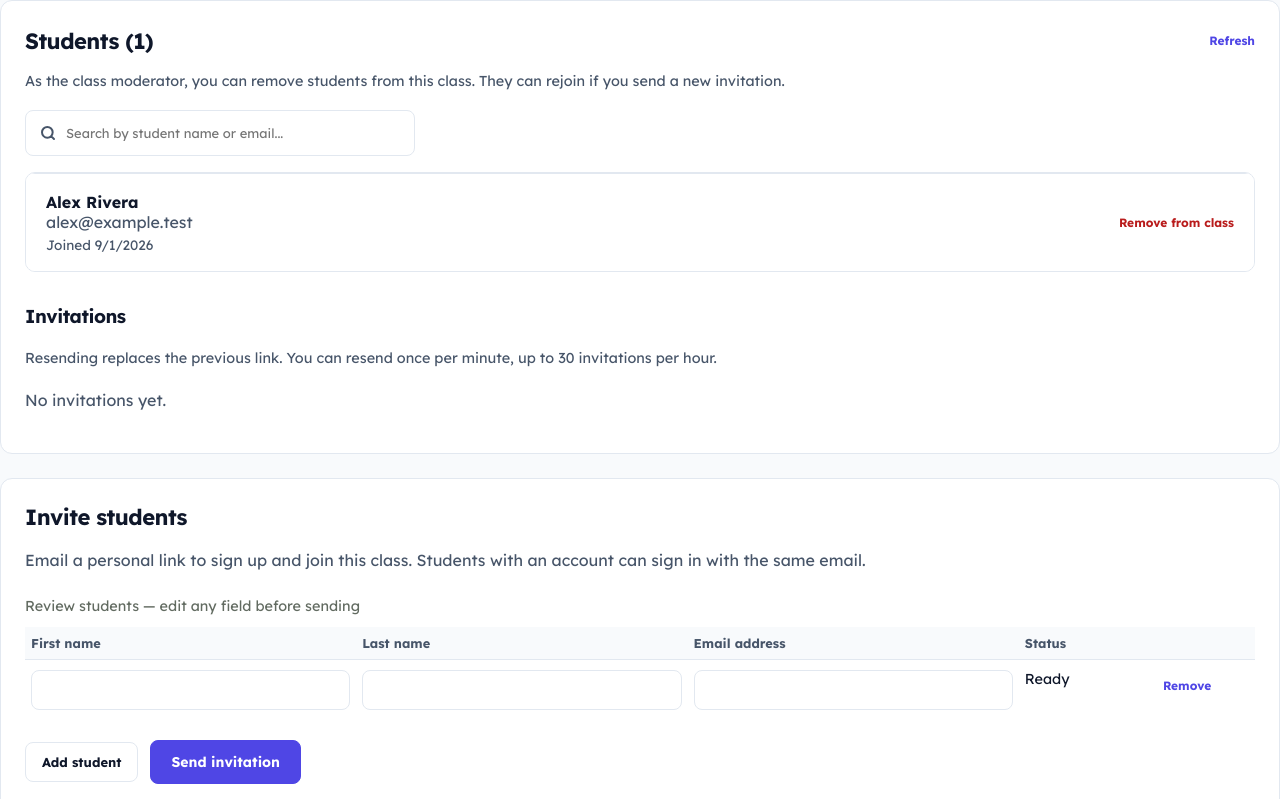
Test: requires confirmation, supports cancel, and removes only the selected class member
Click the button with aria-label "Remove alex@example.test from class". click: (1176, 223)
box: [1119,207,1234,238]
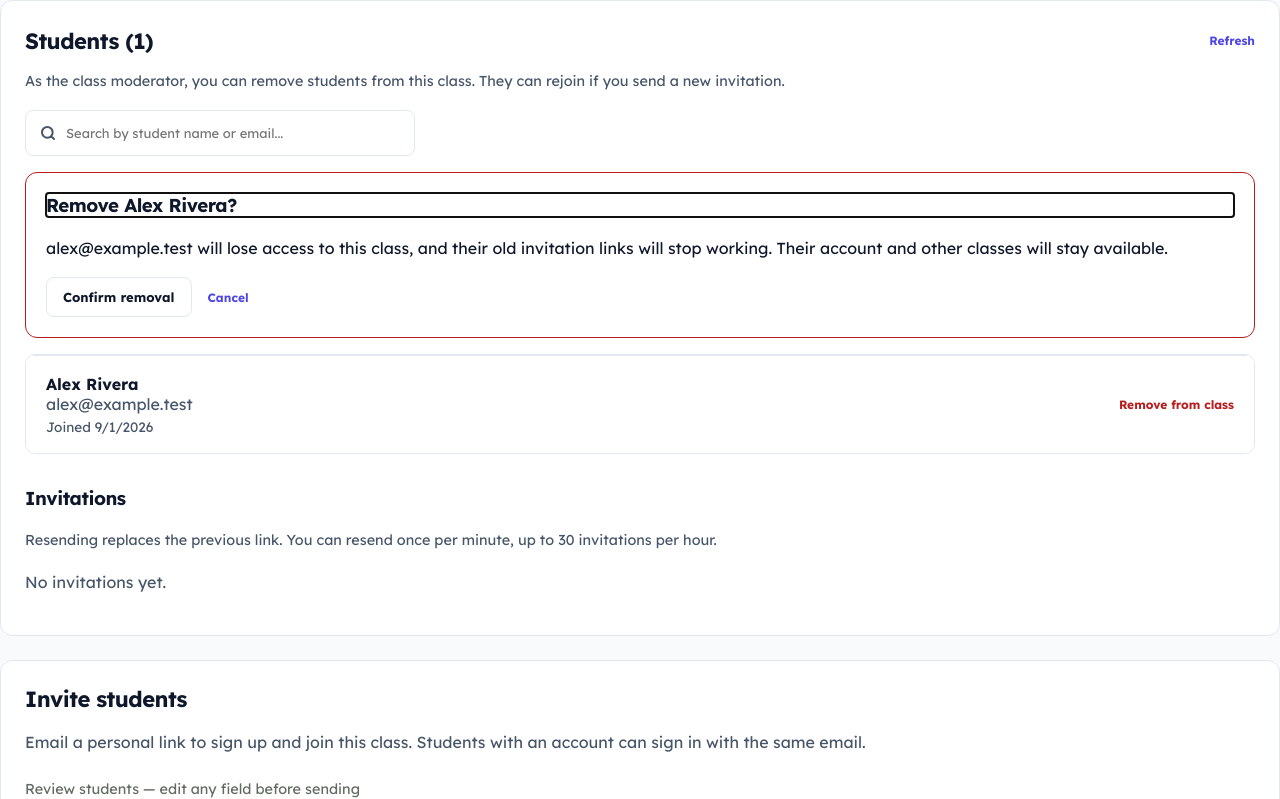
Result: the heading "Remove Alex Rivera?" is shown at [46,193,237,217]
Click the button "Cancel". click: (228, 298)
box: [208,278,249,318]
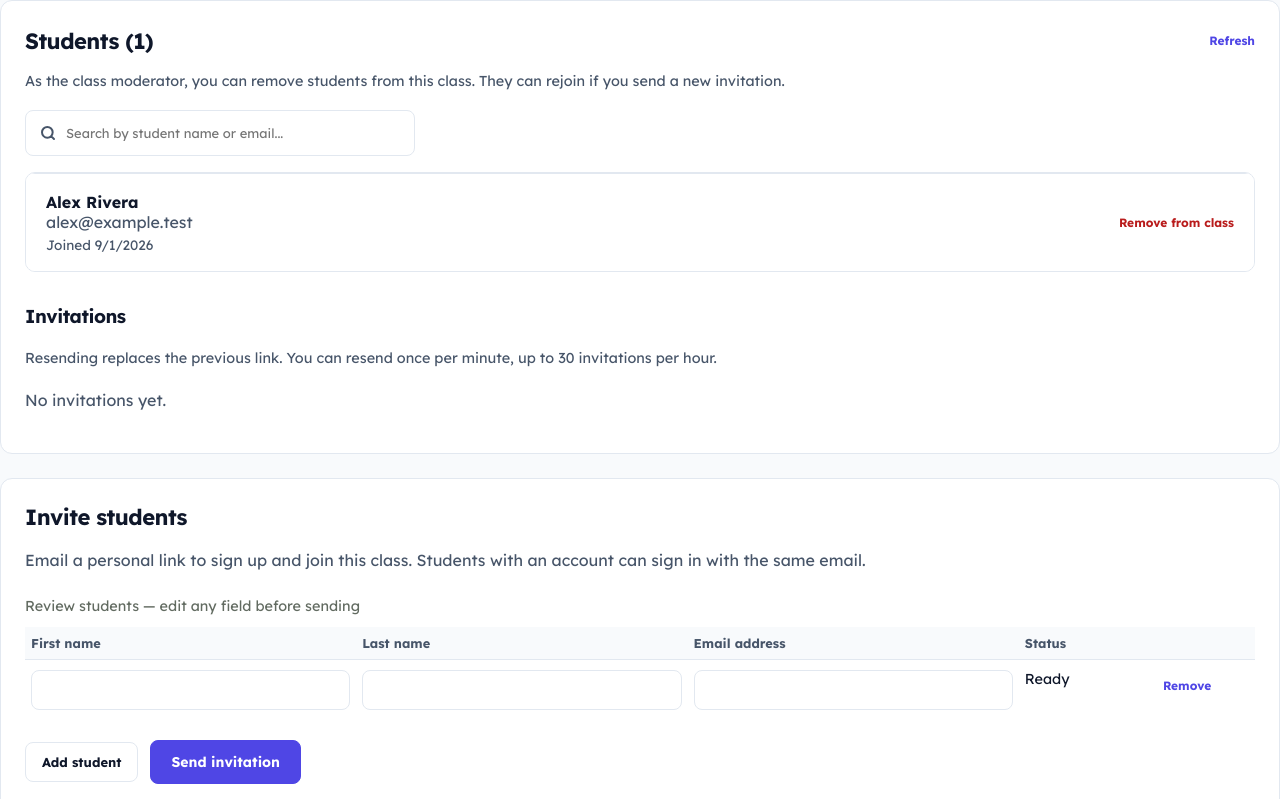
Result: the button "Confirm removal" is gone
Click the button with aria-label "Remove alex@example.test from class". click: (1176, 223)
box: [1119,207,1234,238]
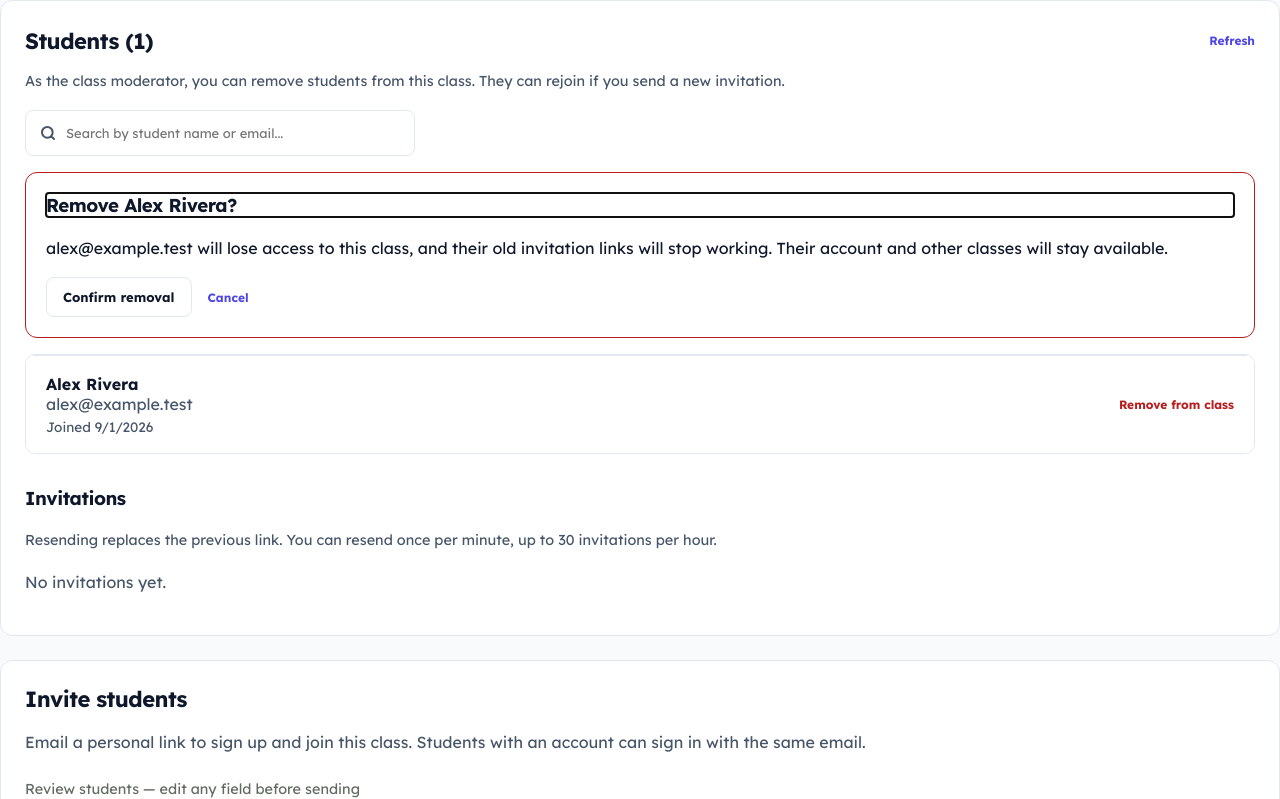
Click the button "Confirm removal". click: (119, 298)
box: [46,278,192,318]
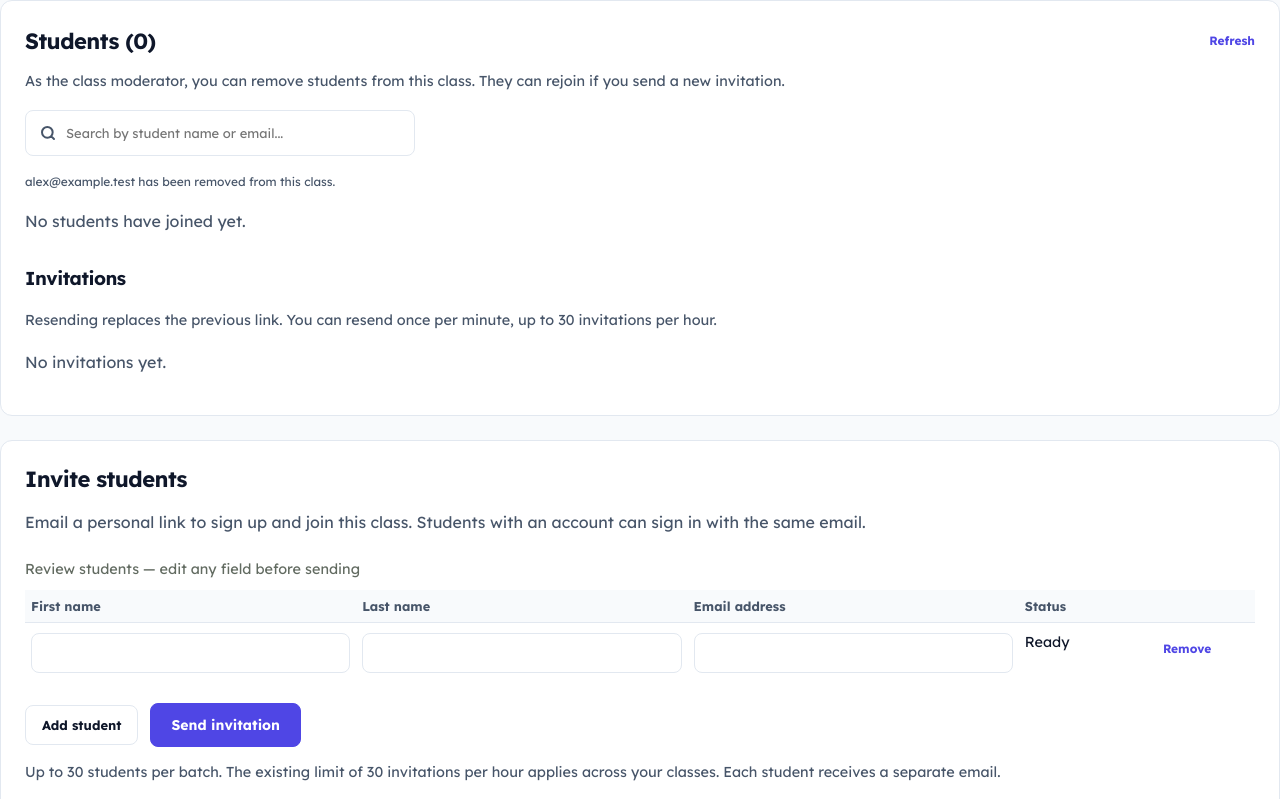
Result: the text "No students have joined yet." is shown at [25,211,246,231]
Result: the text "alex@example.test has been removed from this class." is shown at [25,174,335,189]
Result: the heading "Students (0)" is shown at [25,26,156,54]
